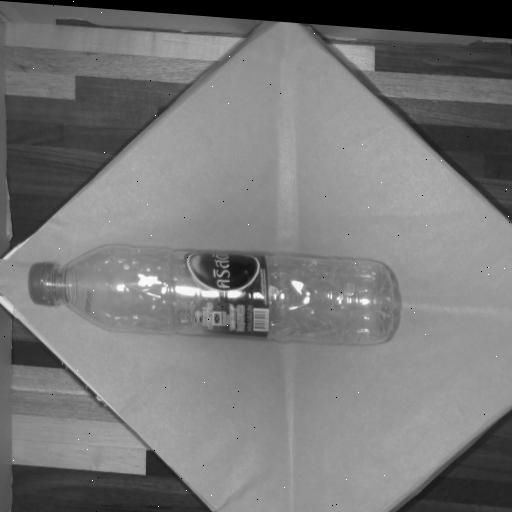bottle: (31, 245, 394, 343)
